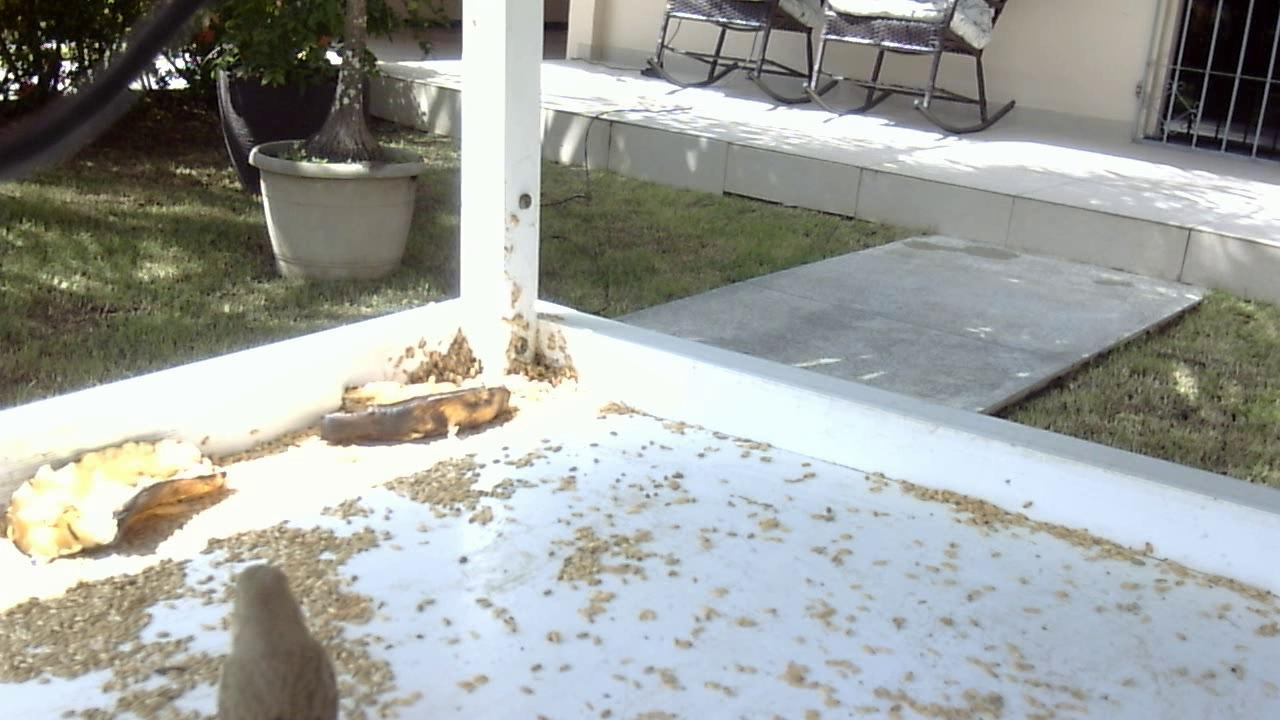canario_do_amazonas: (204, 549, 342, 718)
